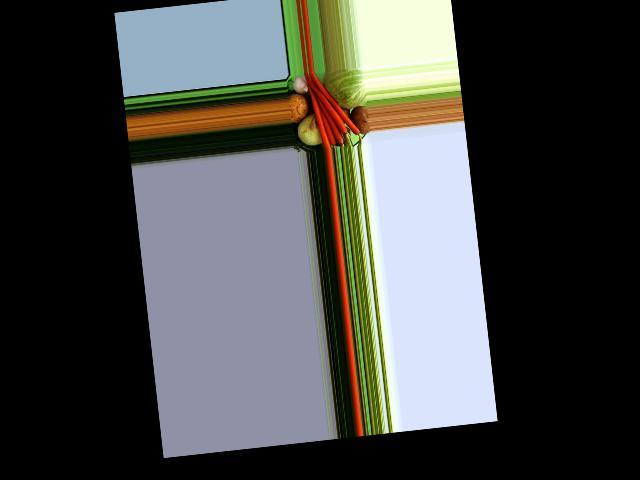carrot: (304, 74, 331, 150)
